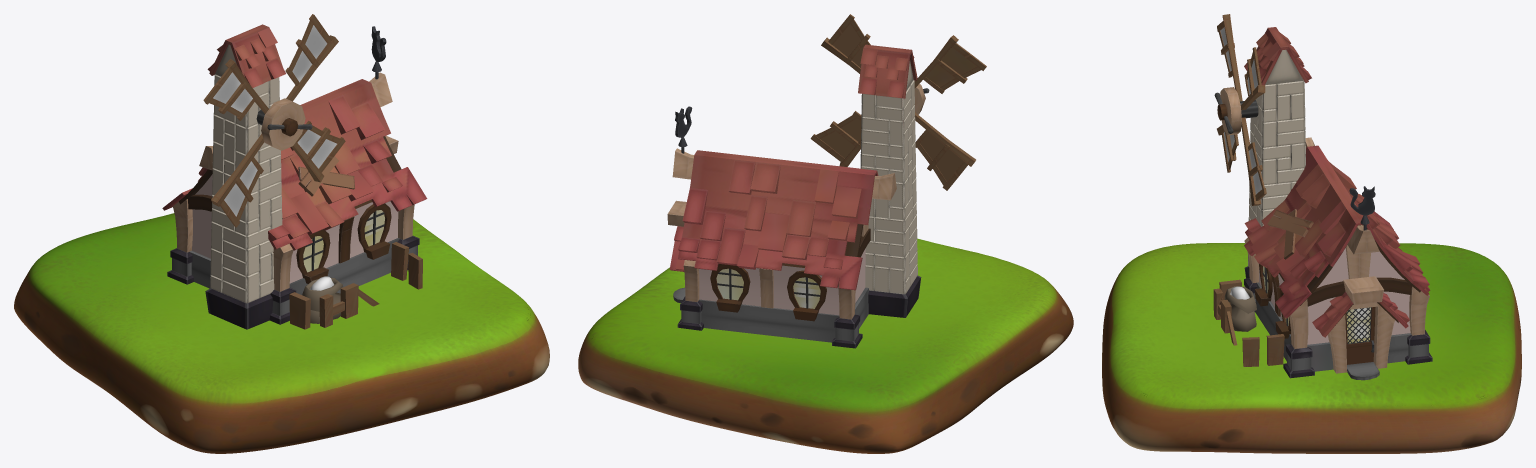
The model's file is house.glb.
3 renders of one model, left to right at view 1: azimuth 30°, elevation 25°; view 2: azimuth 150°, elevation 25°; view 3: azimuth 270°, elevation 25°, orthographic. The views are drawn at different scales.
Parts seen in each view (by area): view 1: Ground_03 - Default_0, Mill_02 - Default_0; view 2: Ground_03 - Default_0, Mill_02 - Default_0; view 3: Ground_03 - Default_0, Mill_02 - Default_0.
Part boxes in pixels (x1=…): Ground_03 - Default_0: x1=14, y1=213, x2=549, y2=453; Mill_02 - Default_0: x1=162, y1=14, x2=427, y2=329; Ground_03 - Default_0: x1=578, y1=238, x2=1073, y2=453; Mill_02 - Default_0: x1=667, y1=14, x2=986, y2=348; Ground_03 - Default_0: x1=1102, y1=243, x2=1521, y2=453; Mill_02 - Default_0: x1=1213, y1=14, x2=1432, y2=380.
Size of the model in its own units: 191 by 179 by 199.
2 materials, 2 textured.
